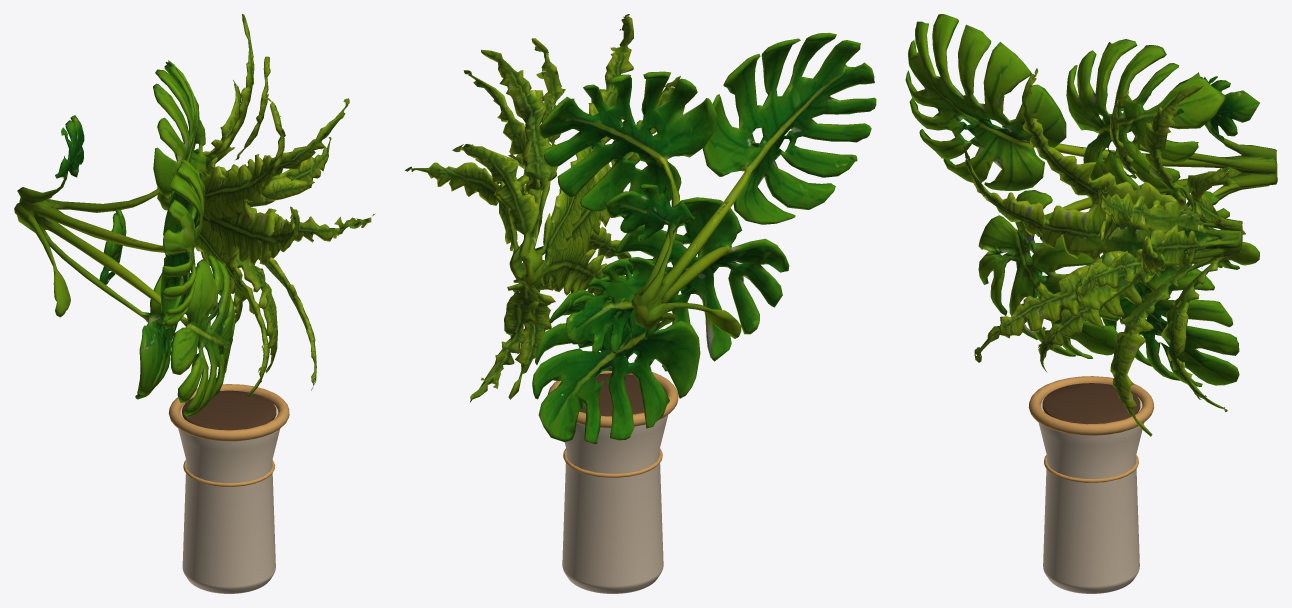
The model's file is accent-planter-tripo.glb.
3 renders of one model, left to right at view 1: azimuth 30°, elevation 25°; view 2: azimuth 150°, elevation 25°; view 3: azimuth 270°, elevation 25°, orthographic. The views are drawn at different scales.
Visible parts, largest first — view 1: Selected Tripo monstera, Selected Tripo fern, TropicalPlanterCluster_Planter_ivory_stone.001, TropicalPlanterCluster_Planter_soil.001, TropicalPlanterCluster_Planter_brass.005; view 2: Selected Tripo monstera, Selected Tripo fern, TropicalPlanterCluster_Planter_ivory_stone.001, TropicalPlanterCluster_Planter_soil.001, TropicalPlanterCluster_Planter_brass.005; view 3: Selected Tripo monstera, Selected Tripo fern, TropicalPlanterCluster_Planter_ivory_stone.001, TropicalPlanterCluster_Planter_soil.001, TropicalPlanterCluster_Planter_brass.005, TropicalPlanterCluster_Planter_brass.006.
Part boxes in pixels (x1=…): Selected Tripo monstera: x1=14, y1=60, x2=234, y2=417; Selected Tripo fern: x1=157, y1=14, x2=375, y2=397; TropicalPlanterCluster_Planter_ivory_stone.001: x1=178, y1=404, x2=279, y2=593; TropicalPlanterCluster_Planter_soil.001: x1=182, y1=390, x2=276, y2=430; TropicalPlanterCluster_Planter_brass.005: x1=168, y1=384, x2=289, y2=441; Selected Tripo monstera: x1=532, y1=32, x2=876, y2=444; Selected Tripo fern: x1=405, y1=14, x2=680, y2=402; TropicalPlanterCluster_Planter_ivory_stone.001: x1=562, y1=415, x2=667, y2=593; TropicalPlanterCluster_Planter_soil.001: x1=579, y1=373, x2=644, y2=416; TropicalPlanterCluster_Planter_brass.005: x1=548, y1=371, x2=678, y2=428; Selected Tripo monstera: x1=905, y1=14, x2=1277, y2=386; Selected Tripo fern: x1=963, y1=68, x2=1242, y2=436; TropicalPlanterCluster_Planter_ivory_stone.001: x1=1039, y1=395, x2=1144, y2=593; TropicalPlanterCluster_Planter_soil.001: x1=1042, y1=383, x2=1140, y2=424; TropicalPlanterCluster_Planter_brass.005: x1=1028, y1=376, x2=1154, y2=435; TropicalPlanterCluster_Planter_brass.006: x1=1044, y1=455, x2=1138, y2=482.
Size of the model in its own units: 1.24 by 2.01 by 1.28.
4 materials, 1 textured.
